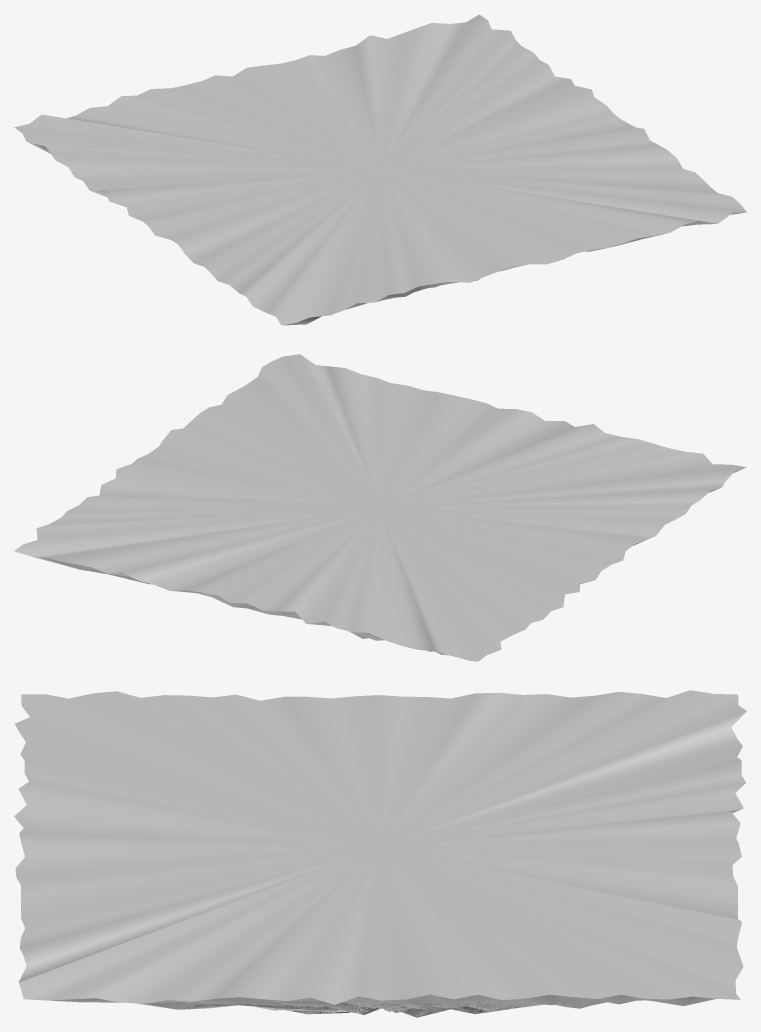
Rendered from tile.FBX.
3 views of the same model, one above another, from view 1: azimuth 30°, elevation 25°; view 2: azimuth 150°, elevation 25°; view 3: azimuth 270°, elevation 25° (orthographic). The views are drawn at different scales.
Parts seen in each view (by area): view 1: Pyramid001; view 2: Pyramid001; view 3: Pyramid001.
Part boxes in pixels (x1,y1,x2,y2): Pyramid001: (14, 14, 746, 325); Pyramid001: (14, 354, 746, 661); Pyramid001: (14, 690, 746, 1017).
Size of the model in its own units: 204 by 52.05 by 204.
